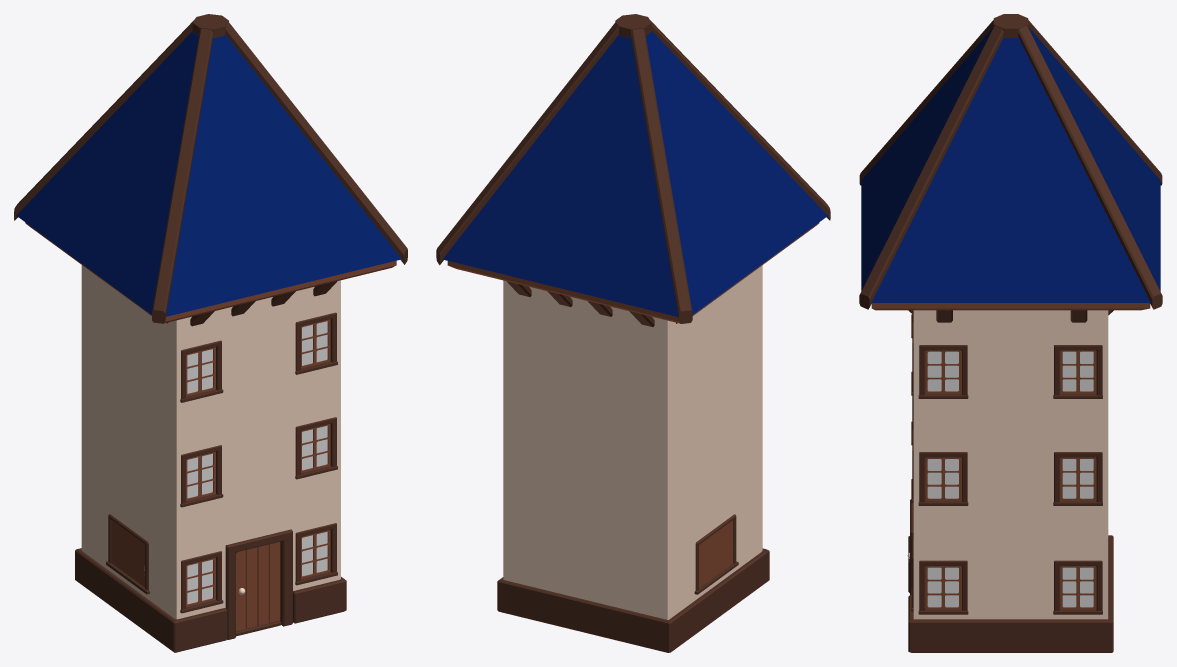
Rendered from MagicShop_Base.fbx.
3 renders of one model, left to right at view 1: azimuth 30°, elevation 25°; view 2: azimuth 150°, elevation 25°; view 3: azimuth 270°, elevation 25°, orthographic. The views are drawn at different scales.
Parts seen in each view (by area): view 1: Roof Top; view 2: Roof Top; view 3: Roof Top.
Part boxes in pixels (box(x1,y1,x2,y2)): Roof Top: box(14, 14, 407, 652); Roof Top: box(436, 14, 830, 652); Roof Top: box(859, 14, 1162, 652).
Size of the model in its own units: 750 by 1611 by 750.
